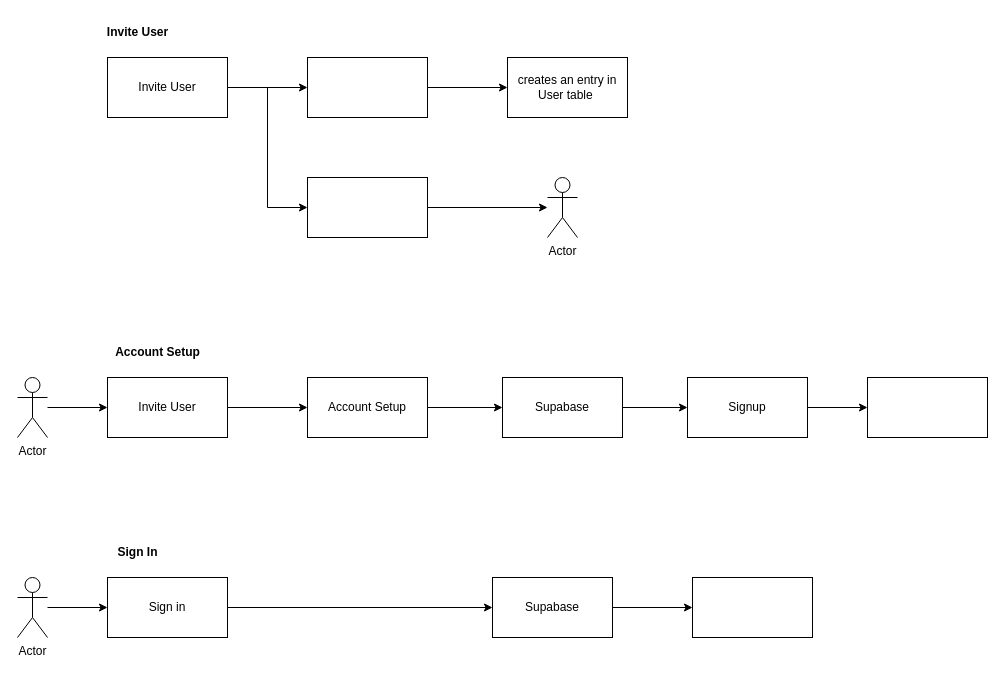
Some shapes in this 1005 by 675 pixel diagram are drawn without their labels. The shapes that lost their labels are listed below. From the top down, each one's box as (x1, y1, x2, y2) in pixels, then its label:
(306, 56, 428, 118): /user
(306, 176, 428, 238): /notification
(866, 376, 988, 438): Email Notification (Confirmation)
(692, 576, 812, 638): Return Token
